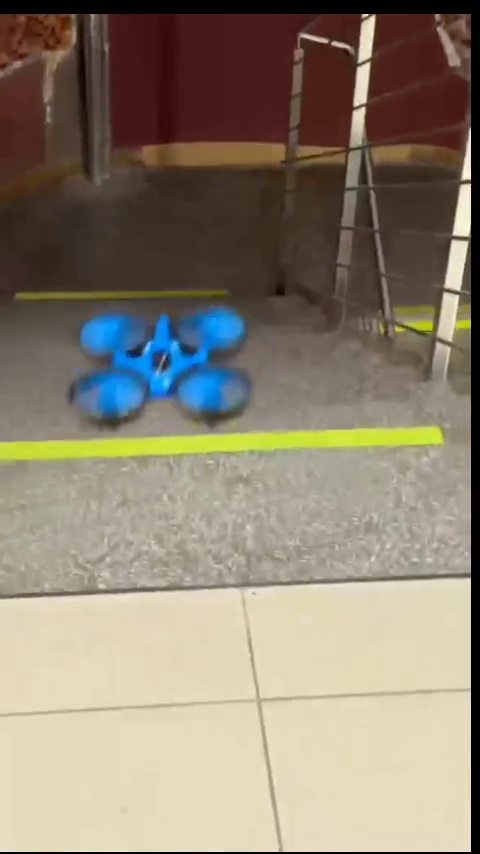drone: (72, 305, 253, 416)
